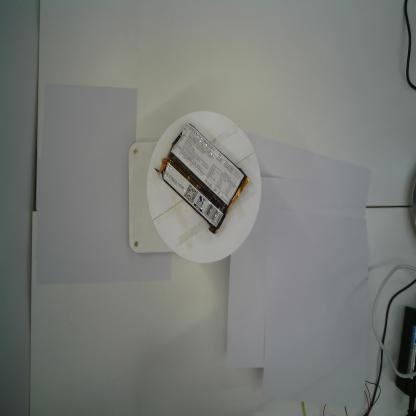Dessert: (154, 122, 250, 236)
